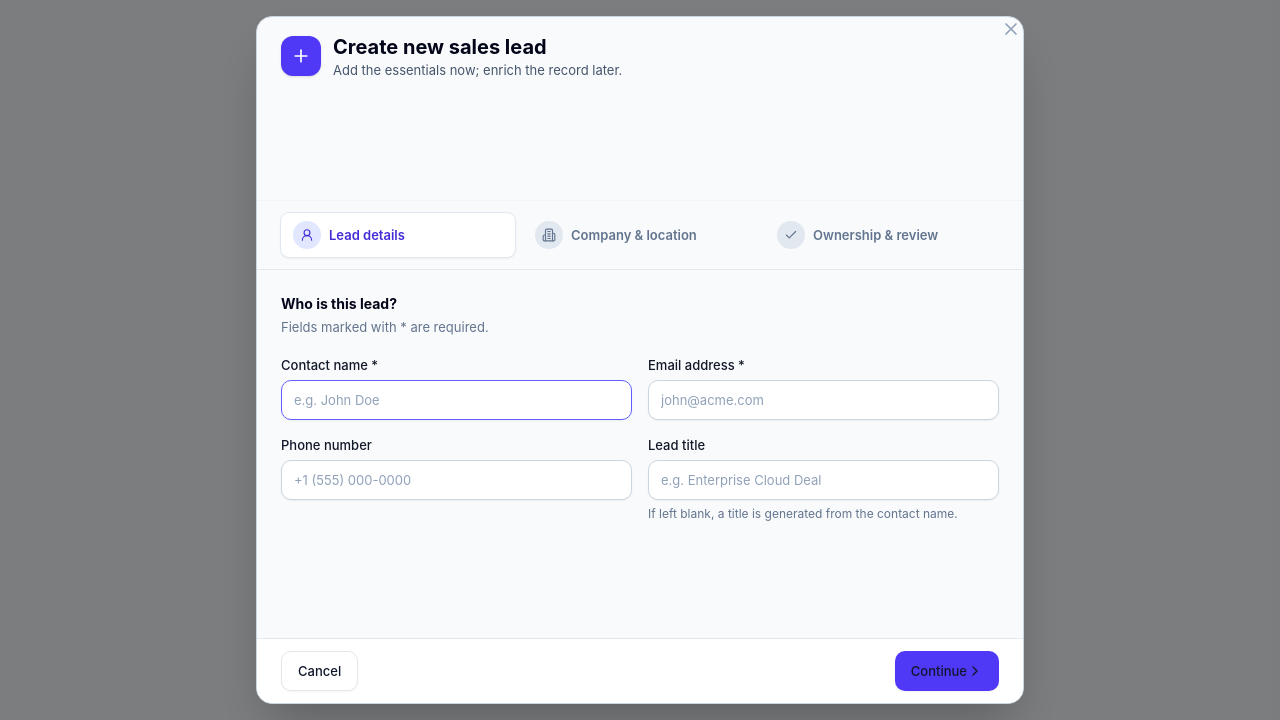
Scenario: LeadFormDialog › validates the current step before advancing
The width and height of the screenshot is (1280, 720).
Click the button "Continue": (947, 671) [895,651,999,691]
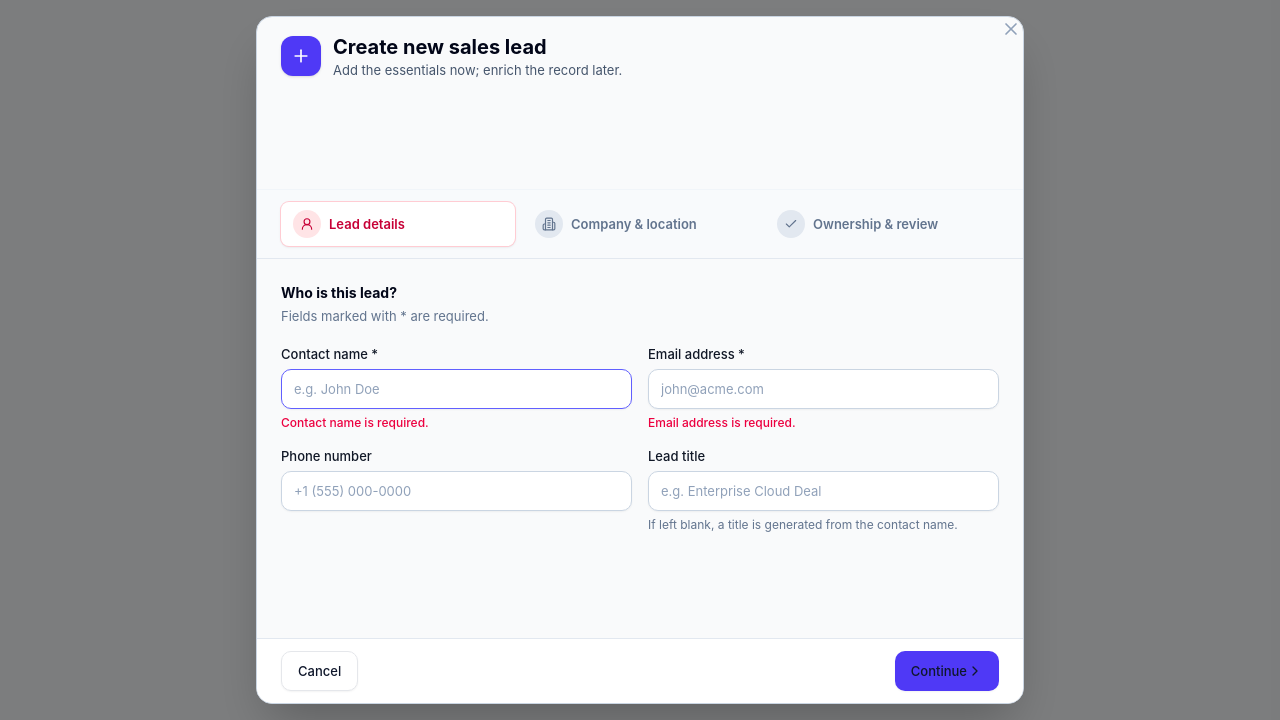
Result: the text "Contact name is required." is shown at [281,414,429,430]
Result: the text "Email address is required." is shown at [648,414,796,430]
